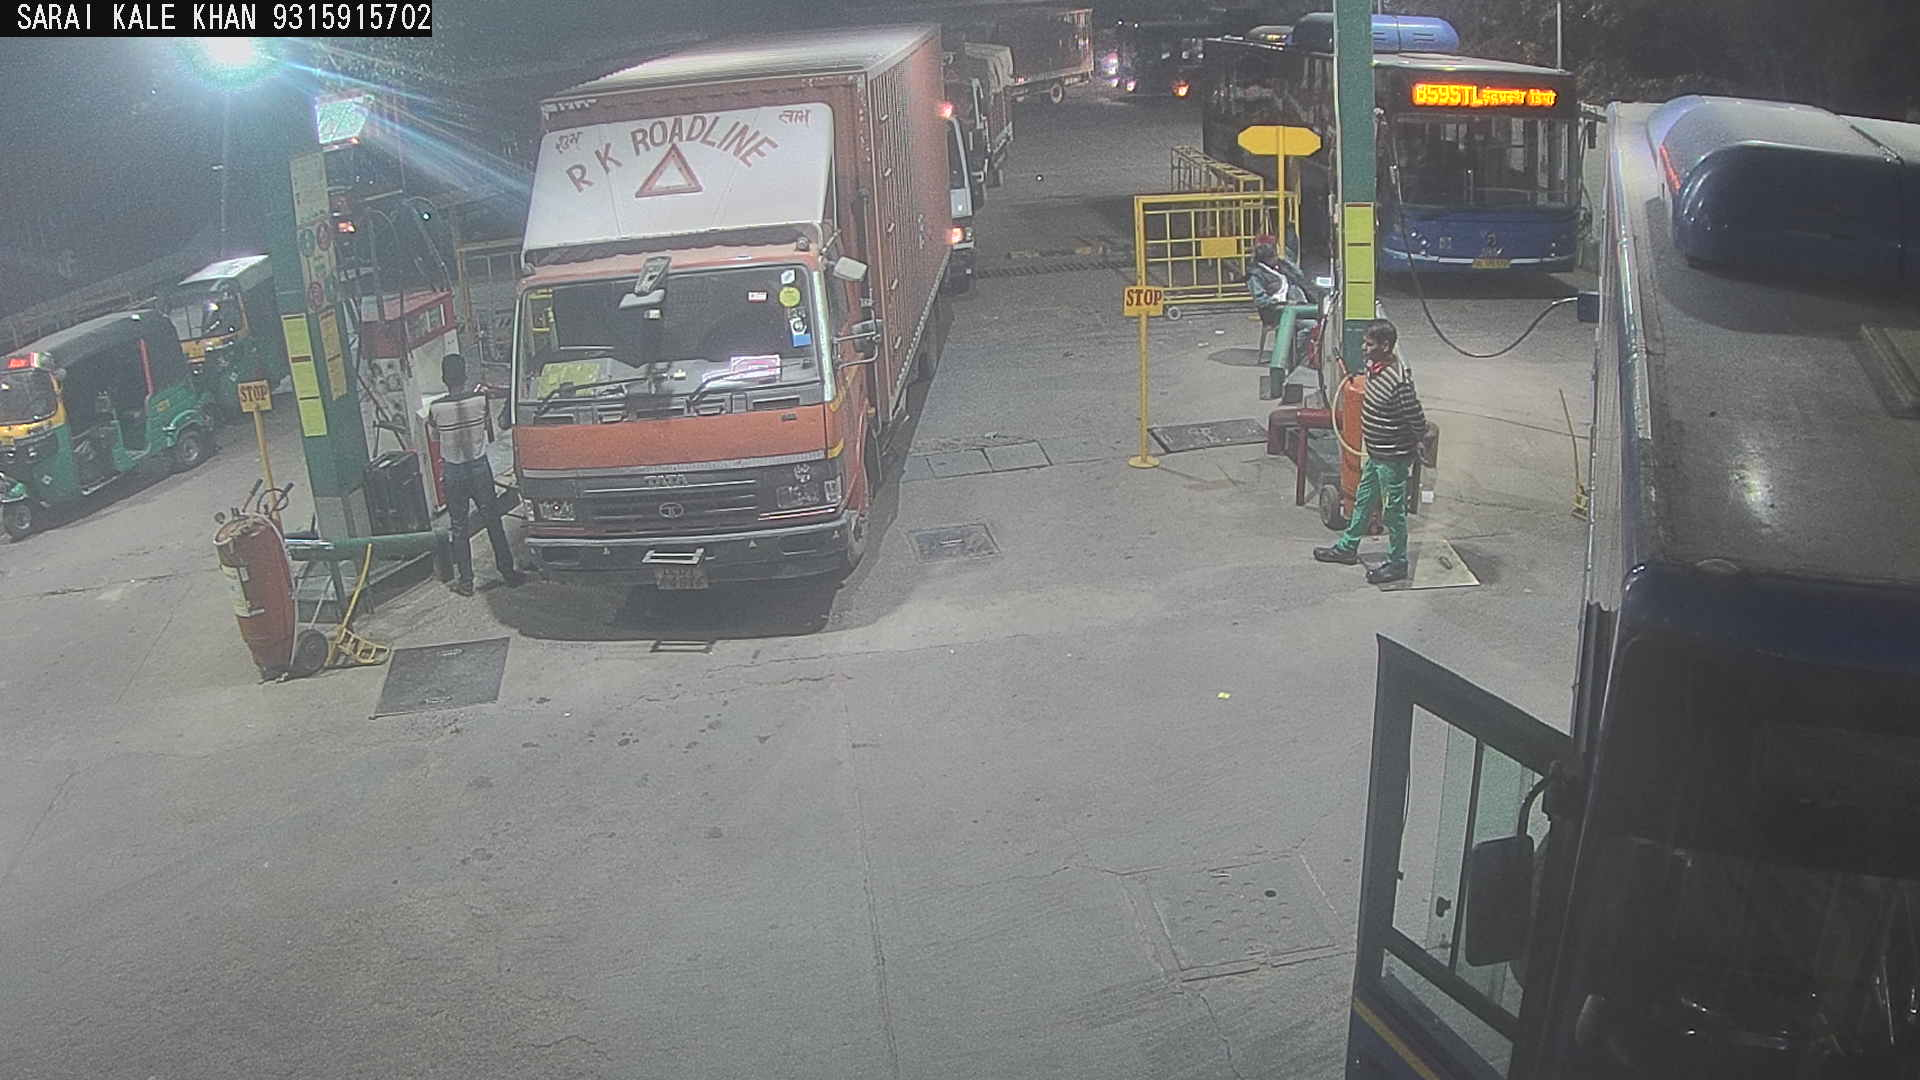Auto: (3, 290, 225, 560), (146, 236, 299, 443)
HMV: (1313, 69, 1917, 1076), (467, 3, 978, 617), (1195, 0, 1615, 290), (295, 41, 620, 293), (923, 32, 1033, 215), (923, 71, 996, 326), (953, 0, 1104, 117), (1083, 8, 1240, 107)
Others: (1305, 305, 1435, 593)
Others Other: (1112, 273, 1179, 485), (232, 356, 297, 566)
